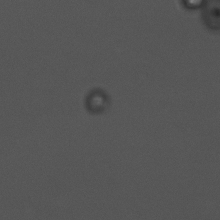Dead Cell: (83, 85, 113, 115), (202, 1, 220, 33), (179, 1, 206, 10)
